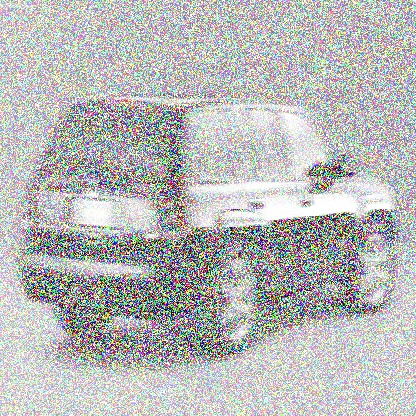Vehicle: (17, 86, 399, 356)
